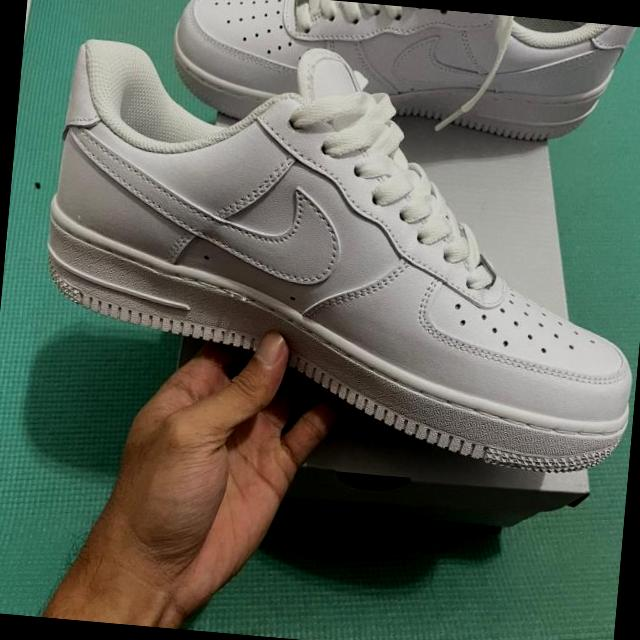nike_original_airforce: (0, 20, 640, 479), (164, 0, 637, 153)
